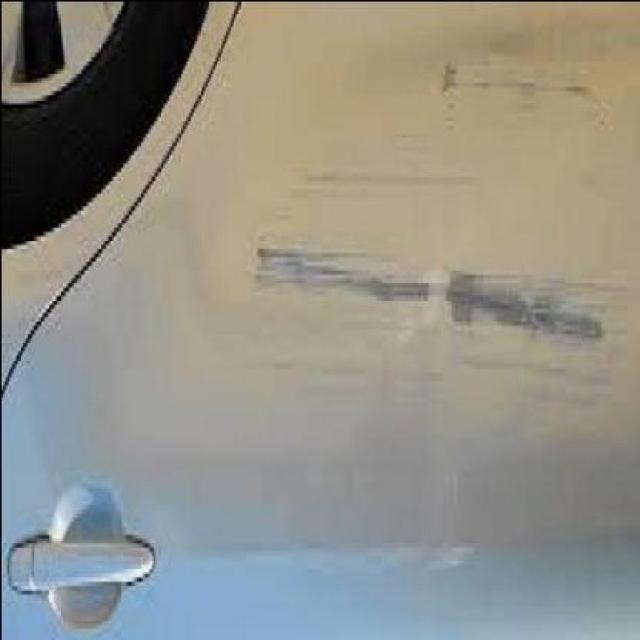damage: (240, 43, 630, 478)
